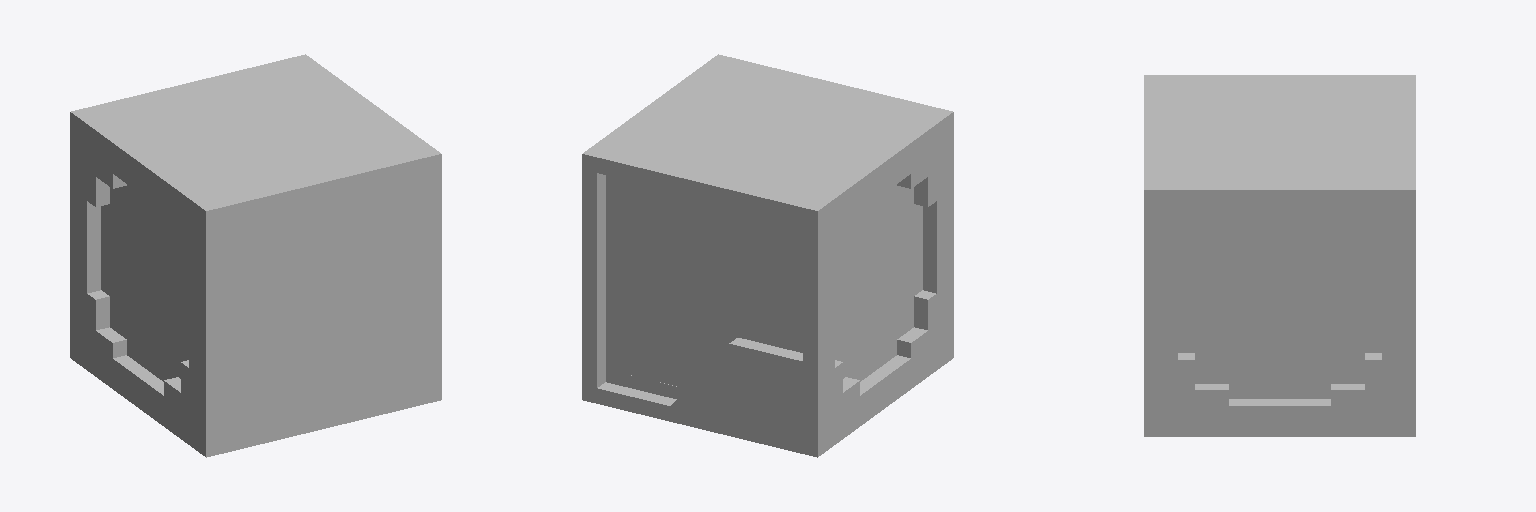
File: matter_replicator.obj
3 views of the same model, side by side, from view 1: azimuth 30°, elevation 25°; view 2: azimuth 150°, elevation 25°; view 3: azimuth 270°, elevation 25° (orthographic).
Parts seen in each view (by area): view 1: replicator; view 2: replicator; view 3: replicator.
Boxes of the visible parts, x1,y1,x2,y2 form: replicator: [70, 54, 441, 457]; replicator: [582, 54, 953, 457]; replicator: [1144, 75, 1415, 436].
Bounding box in the file's own units: 1 × 1 × 1.